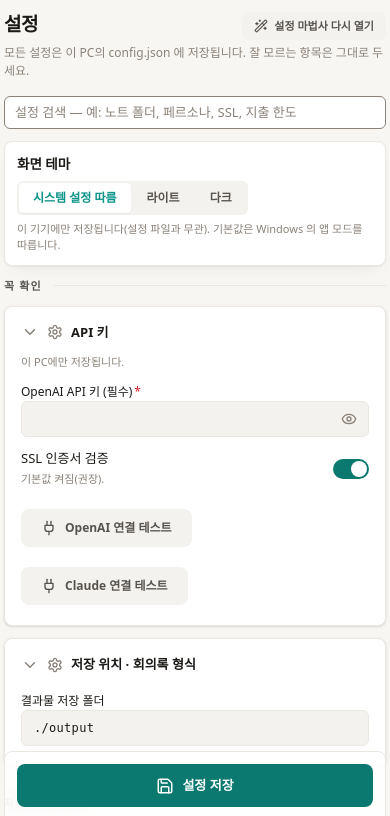
Test: 설정 검색 — 어떤 설정이든 도달한다 › 검색 중에는 고급 그룹도 펼쳐진다 — 찾았는데 접혀 있으면 못 찾은 것과 같다
Expected: the button "API 키" is shown, [5, 306, 385, 358]
Type "페르소나 사용" into the field labelled "설정 검색" at (195, 113), box [4, 96, 386, 129]
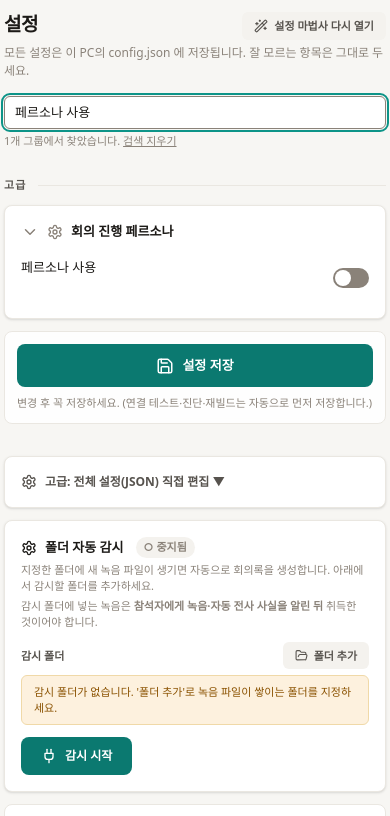
Now the text "페르소나 사용" is shown, box [21, 258, 96, 276]
